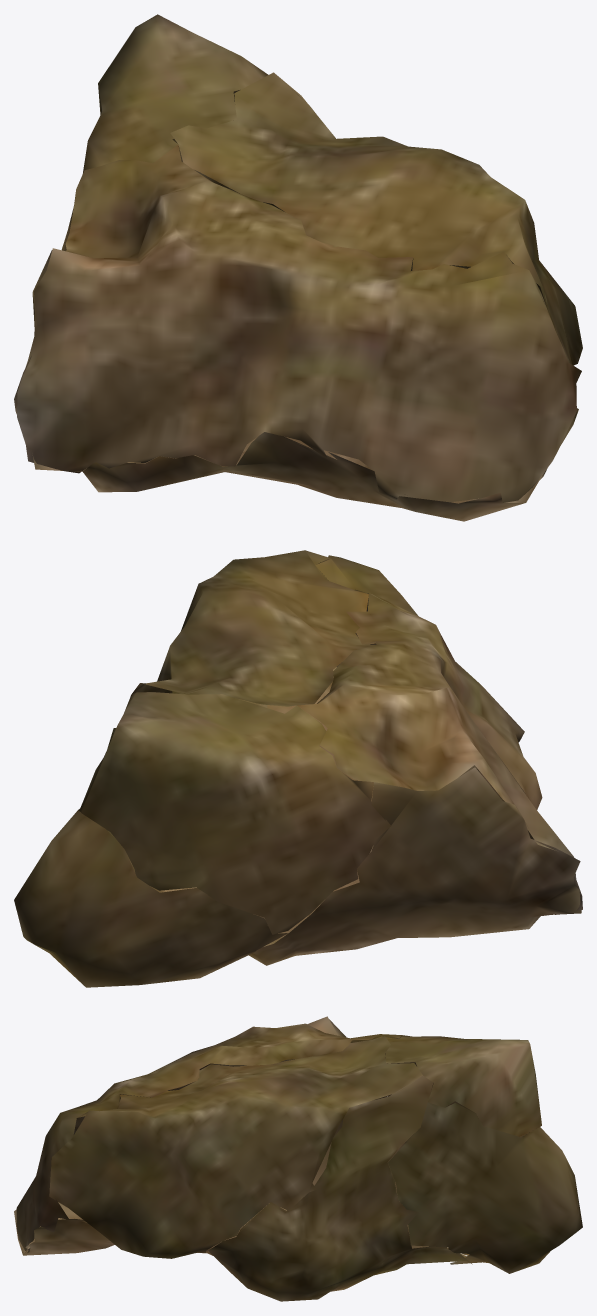
The model's file is rock_moss_d.glb.
The picture shows the model from 3 angles, top to bottom: view 1: azimuth 30°, elevation 25°; view 2: azimuth 150°, elevation 25°; view 3: azimuth 270°, elevation 25°; orthographic projection. The views are drawn at different scales.
Parts seen in each view (by area): view 1: rock_moss_set_01_rock06; view 2: rock_moss_set_01_rock06; view 3: rock_moss_set_01_rock06.
Part boxes in pixels (x1,y1,x2,y2): rock_moss_set_01_rock06: [14, 14, 582, 521]; rock_moss_set_01_rock06: [14, 550, 582, 987]; rock_moss_set_01_rock06: [14, 1016, 582, 1301].
Bounding box in the file's own units: 2.14 × 1.25 × 2.77.
1 material, 1 textured.
